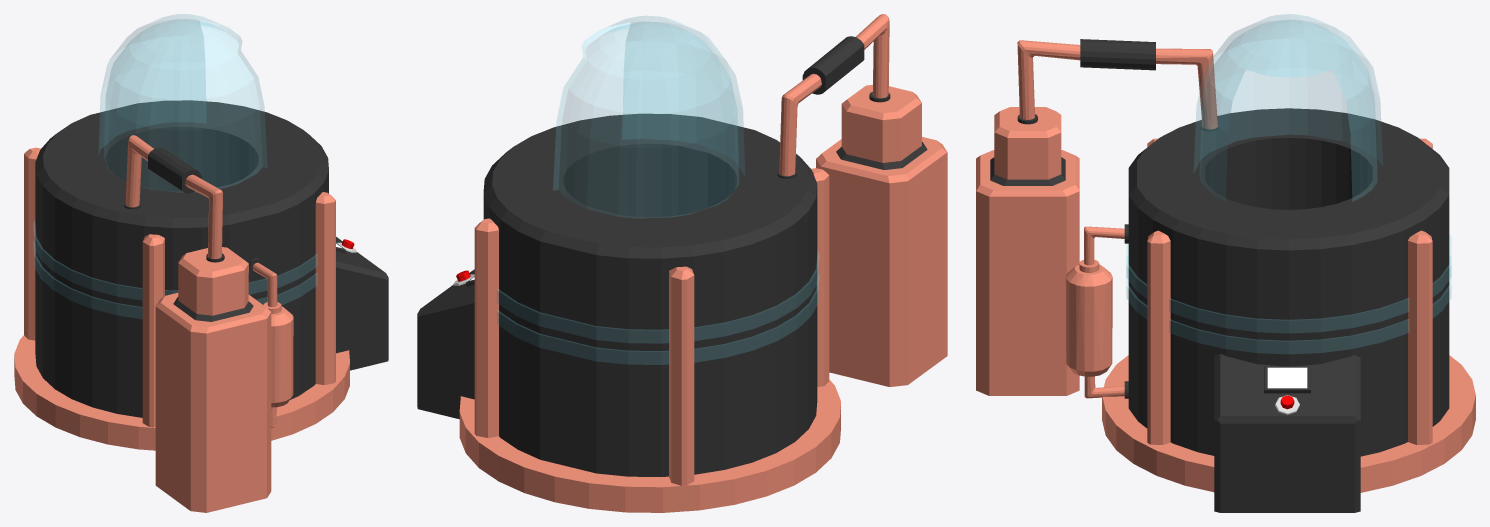
File: trashbin.glb
3 renders of one model, left to right at view 1: azimuth 30°, elevation 25°; view 2: azimuth 150°, elevation 25°; view 3: azimuth 270°, elevation 25°, orthographic. The views are drawn at different scales.
Parts seen in each view (by area): view 1: Trashbin, Trashbin_tubes, Cube, Trashbin.001, Trashbin_panel, Trashbin_tubes.001, Trashbin_tubes.002; view 2: Trashbin, Trashbin_tubes, Trashbin.001, Cube, Trashbin_panel, Trashbin_tubes.001; view 3: Trashbin, Trashbin_tubes, Trashbin_panel, Trashbin.001, Cube, Trashbin_tubes.002, Trashbin_tubes.001.
Part boxes in pixels (x1=…): Trashbin: x1=33, y1=14, x2=328, y2=417; Trashbin_tubes: x1=124, y1=202, x2=271, y2=512; Cube: x1=24, y1=147, x2=335, y2=427; Trashbin.001: x1=14, y1=335, x2=349, y2=450; Trashbin_panel: x1=336, y1=237, x2=388, y2=370; Trashbin_tubes.001: x1=125, y1=135, x2=222, y2=258; Trashbin_tubes.002: x1=252, y1=262, x2=293, y2=427; Trashbin: x1=483, y1=16, x2=819, y2=476; Trashbin_tubes: x1=777, y1=84, x2=947, y2=386; Trashbin.001: x1=459, y1=379, x2=840, y2=512; Cube: x1=474, y1=168, x2=829, y2=485; Trashbin_panel: x1=417, y1=269, x2=474, y2=419; Trashbin_tubes.001: x1=779, y1=14, x2=889, y2=176; Trashbin: x1=1126, y1=14, x2=1451, y2=456; Trashbin_tubes: x1=976, y1=107, x2=1219, y2=398; Trashbin_panel: x1=1214, y1=353, x2=1360, y2=512; Trashbin.001: x1=1102, y1=355, x2=1475, y2=492; Cube: x1=1147, y1=138, x2=1432, y2=444; Trashbin_tubes.002: x1=1065, y1=226, x2=1124, y2=398; Trashbin_tubes.001: x1=1017, y1=39, x2=1217, y2=129.
Size of what is drawn, in the model's own units: 3.68 by 3.94 by 4.47.
